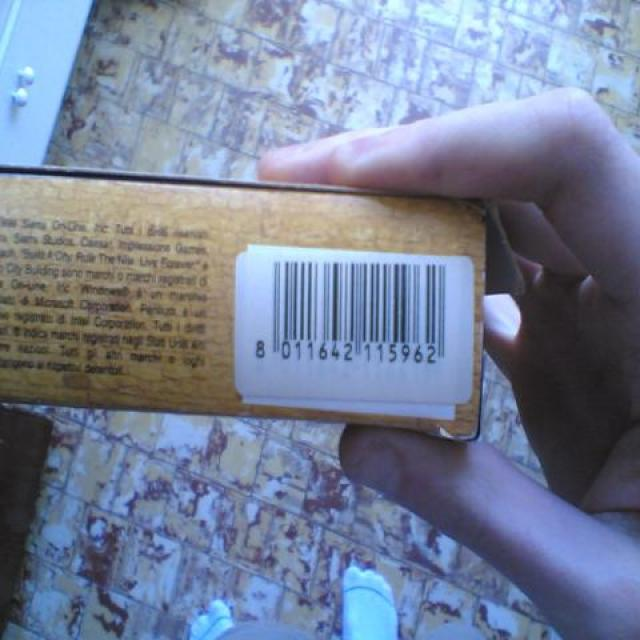Barcode: (247, 251, 468, 401)
